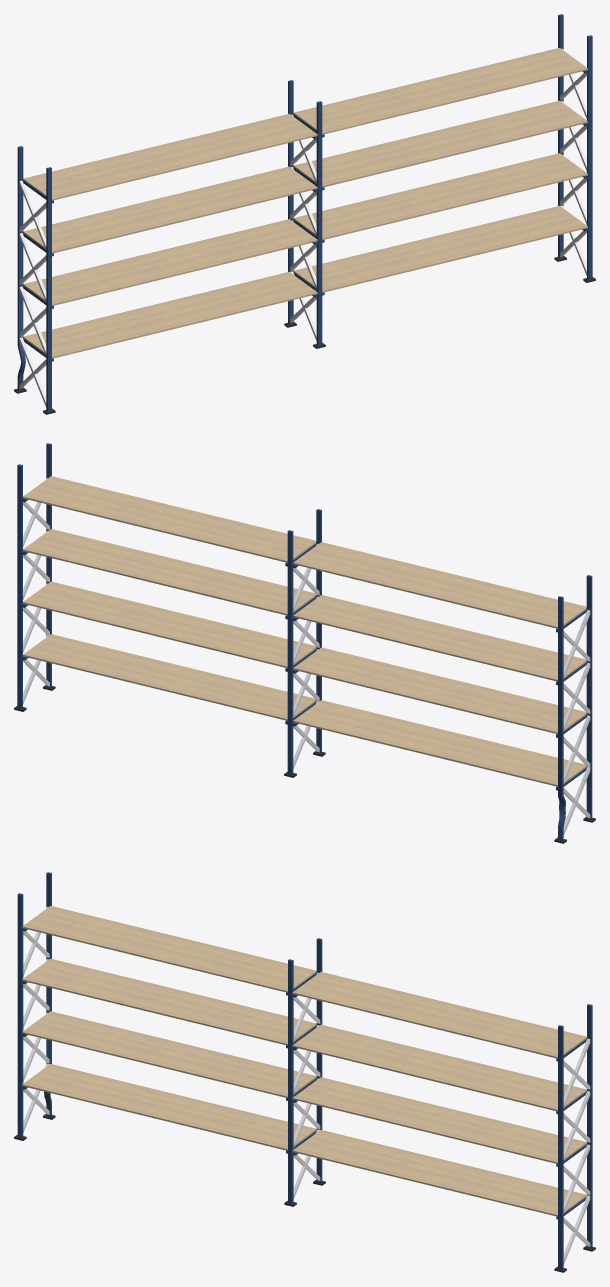
The model's file is DBShenkShelfBroken.fbx.
3 renders of one model, top to bottom at view 1: azimuth 30°, elevation 25°; view 2: azimuth 150°, elevation 25°; view 3: azimuth 330°, elevation 25°, orthographic.
Parts seen in each view (by area): view 1: BigShelves02; view 2: BigShelves02; view 3: BigShelves02.
Boxes of the visible parts, x1,y1,x2,y2 form: BigShelves02: (14,14,595,414); BigShelves02: (14,443,595,843); BigShelves02: (14,872,595,1272).
Bounding box in the file's own units: 1775 × 754 × 181.
4 materials, 4 textured.
